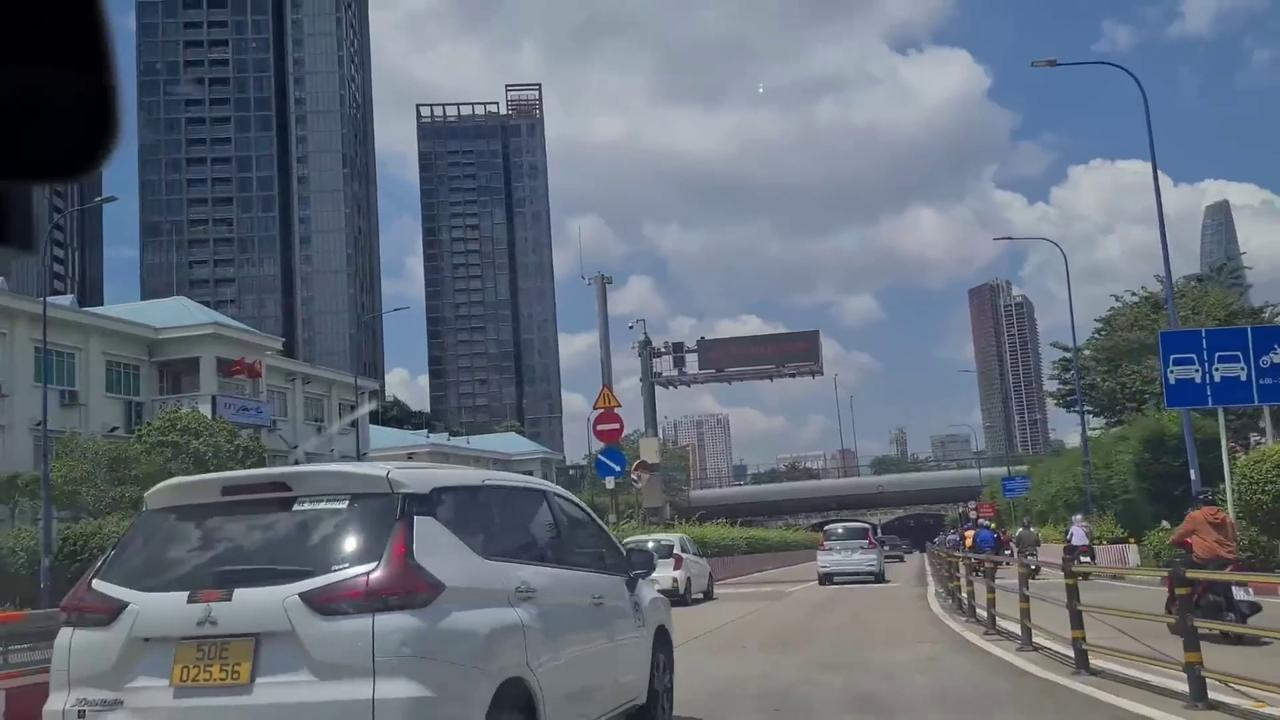Cấm đi ngược chiều: (593, 410, 624, 444)
Hướng phải đi vòng sang phải: (594, 446, 626, 480)
Làn đường cho từng xe: (1163, 324, 1276, 410)
Đuờng hẹp: (591, 383, 623, 409)
